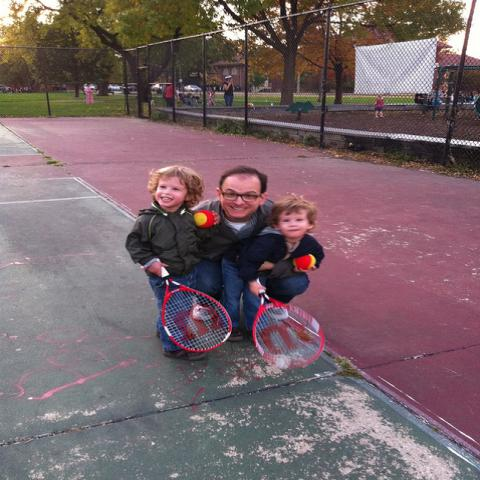car: (183, 85, 202, 92), (82, 83, 96, 90), (108, 84, 120, 90), (151, 85, 161, 90)
